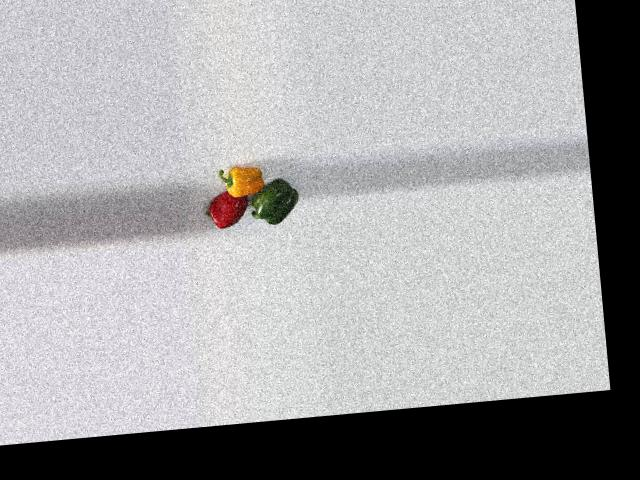bell_pepper: (217, 161, 266, 205)
